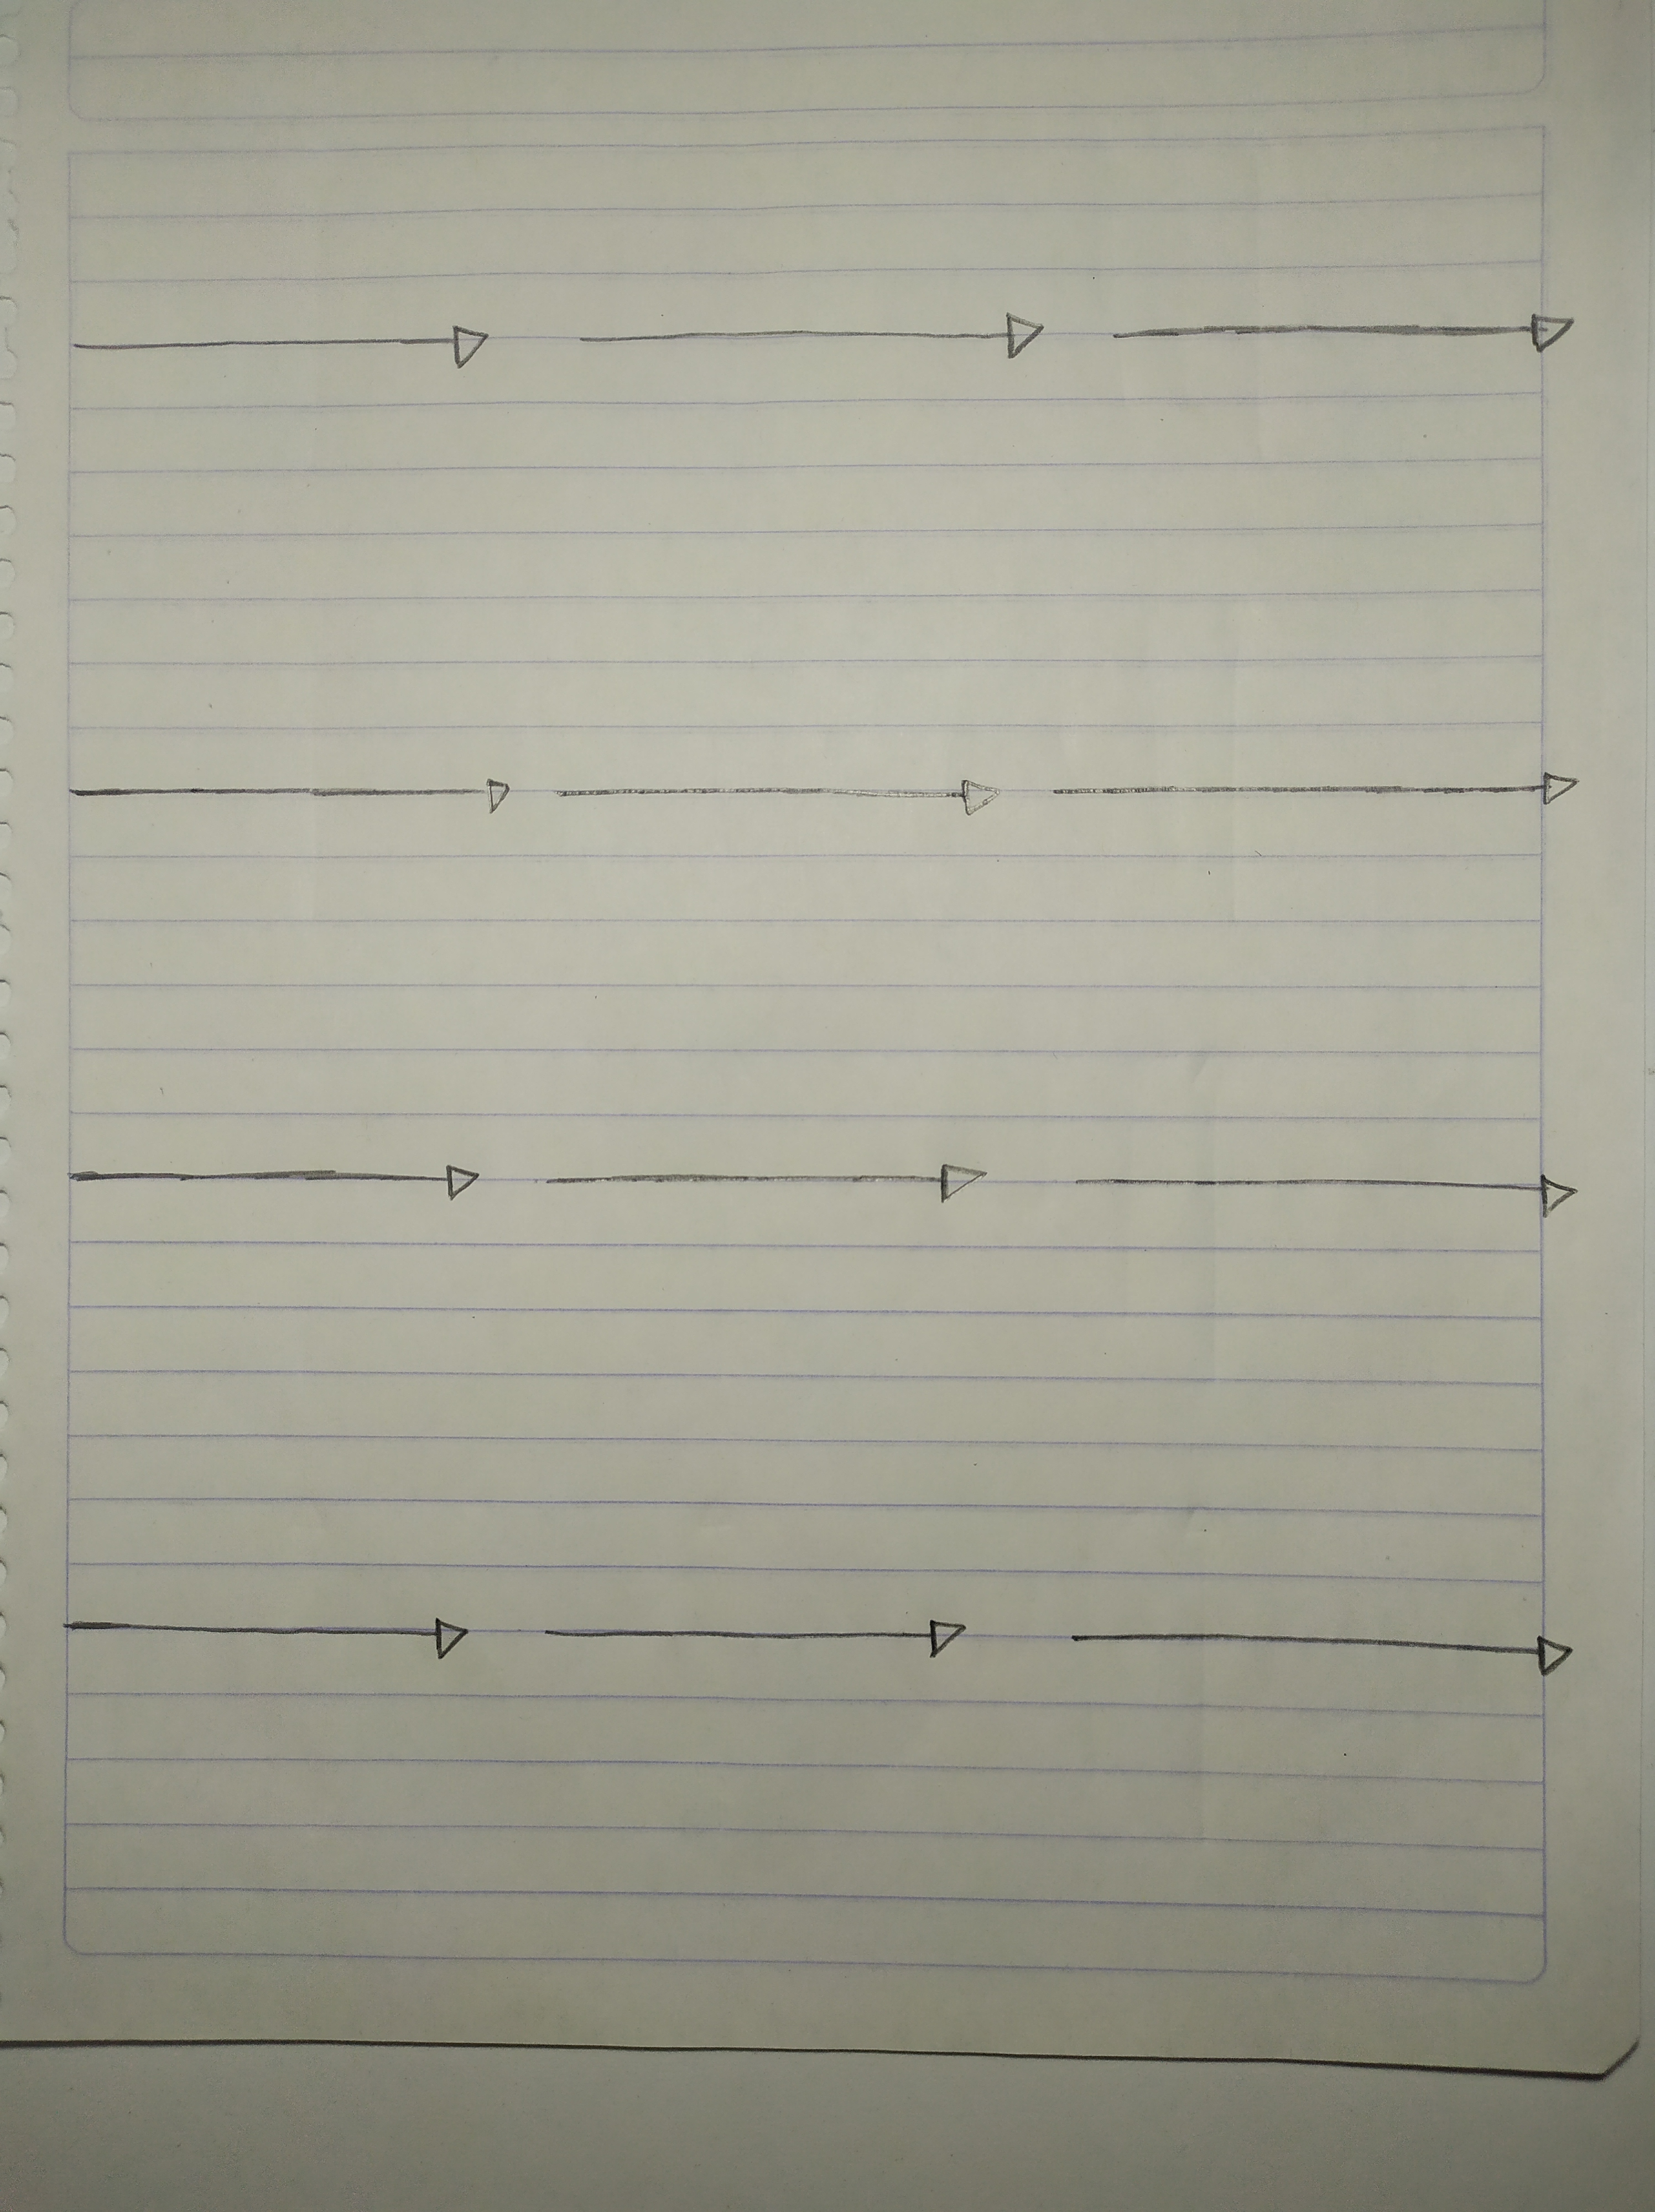arrow_line_right: (1038, 1140, 1617, 1244), (1043, 1597, 1603, 1705), (520, 1140, 1022, 1235), (35, 1581, 508, 1682), (527, 1595, 1022, 1682), (1040, 765, 1613, 832), (49, 1136, 501, 1216), (1093, 297, 1587, 370), (45, 311, 506, 389), (47, 763, 527, 832), (555, 309, 1064, 374), (535, 766, 1029, 825)
